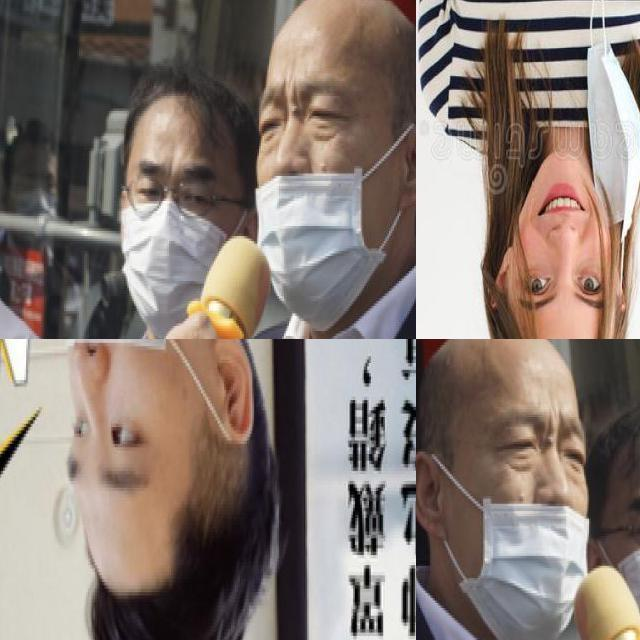hairnet: (257, 136, 368, 329), (484, 465, 588, 640)
